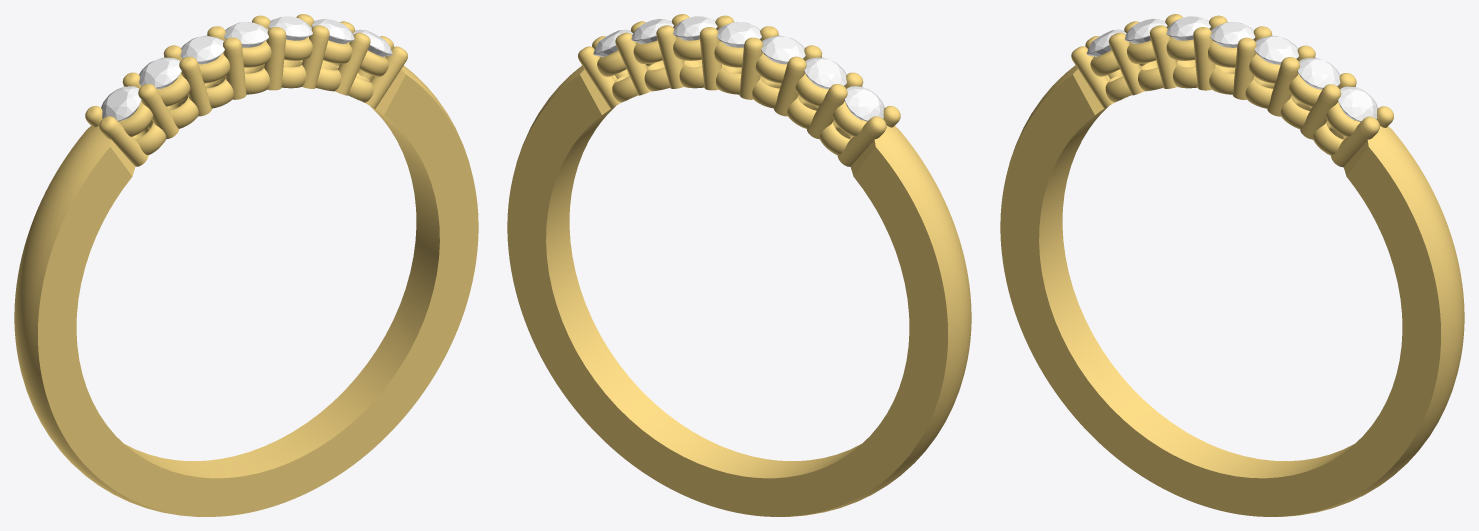
File: Sarah7stone_webgi.glb
3 views of the same model, side by side, from view 1: azimuth 30°, elevation 25°; view 2: azimuth 150°, elevation 25°; view 3: azimuth 330°, elevation 25° (orthographic).
Parts seen in each view (by area): view 1: Sarah_YG_for_3d_model, Sarah_dia_for_3d_model006, Sarah_dia_for_3d_model005, Sarah_dia_for_3d_model004, Sarah_dia_for_3d_model003, Sarah_dia_for_3d_model002, Sarah_dia_for_3d_model001; view 2: Sarah_YG_for_3d_model, Sarah_dia_for_3d_model006, Sarah_dia_for_3d_model005, Sarah_dia_for_3d_model004, Sarah_dia_for_3d_model003, Sarah_dia_for_3d_model002, Sarah_dia_for_3d_model001; view 3: Sarah_YG_for_3d_model, Sarah_dia_for_3d_model, Sarah_dia_for_3d_model001, Sarah_dia_for_3d_model002, Sarah_dia_for_3d_model003, Sarah_dia_for_3d_model004, Sarah_dia_for_3d_model005.
Boxes of the visible parts, x1,y1,x2,y2 form: Sarah_YG_for_3d_model: [14, 14, 478, 516]; Sarah_dia_for_3d_model006: [101, 86, 141, 121]; Sarah_dia_for_3d_model005: [139, 57, 181, 88]; Sarah_dia_for_3d_model004: [180, 35, 224, 64]; Sarah_dia_for_3d_model003: [224, 22, 268, 47]; Sarah_dia_for_3d_model002: [268, 16, 312, 40]; Sarah_dia_for_3d_model001: [311, 18, 354, 43]; Sarah_YG_for_3d_model: [507, 14, 971, 516]; Sarah_dia_for_3d_model006: [844, 86, 884, 121]; Sarah_dia_for_3d_model005: [804, 57, 846, 88]; Sarah_dia_for_3d_model004: [761, 35, 805, 64]; Sarah_dia_for_3d_model003: [717, 22, 761, 47]; Sarah_dia_for_3d_model002: [673, 16, 717, 40]; Sarah_dia_for_3d_model001: [631, 18, 674, 43]; Sarah_YG_for_3d_model: [1000, 14, 1464, 516]; Sarah_dia_for_3d_model: [1338, 86, 1377, 121]; Sarah_dia_for_3d_model001: [1297, 58, 1340, 89]; Sarah_dia_for_3d_model002: [1254, 36, 1298, 64]; Sarah_dia_for_3d_model003: [1210, 22, 1255, 47]; Sarah_dia_for_3d_model004: [1166, 16, 1210, 40]; Sarah_dia_for_3d_model005: [1125, 18, 1167, 43].
Bounding box in the file's own units: 2.8 × 2.84 × 0.2908.
